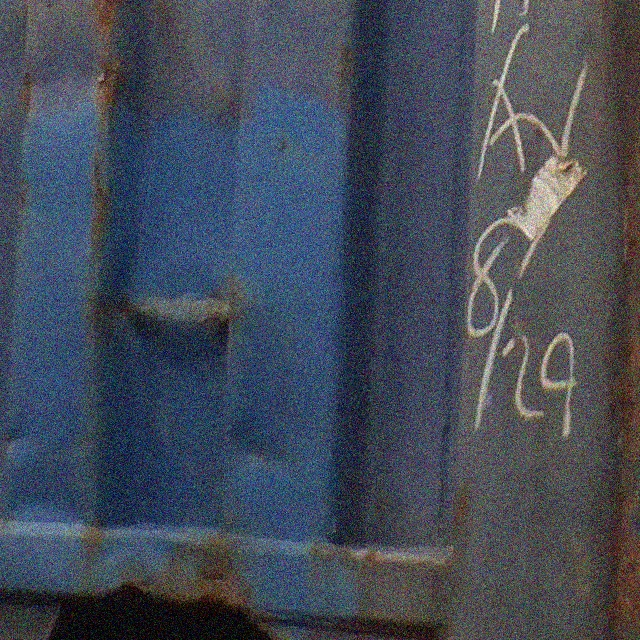Dent: (111, 279, 241, 377), (31, 20, 98, 115)
Rusty: (145, 543, 254, 598), (91, 5, 128, 121), (87, 156, 110, 265), (330, 42, 364, 108), (20, 70, 40, 109)
